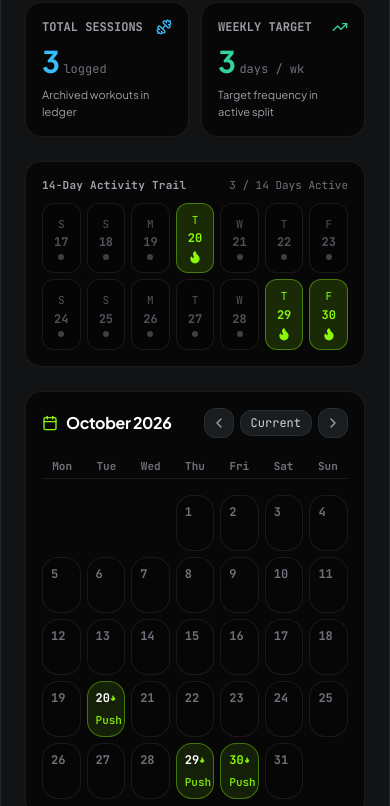
Test: GymConsistencyStreakCalendar › navigates between months and back to the current month
(page scrolled)
Click the button titled "Previous Month".
click(219, 423)  # box [204,408,234,438]
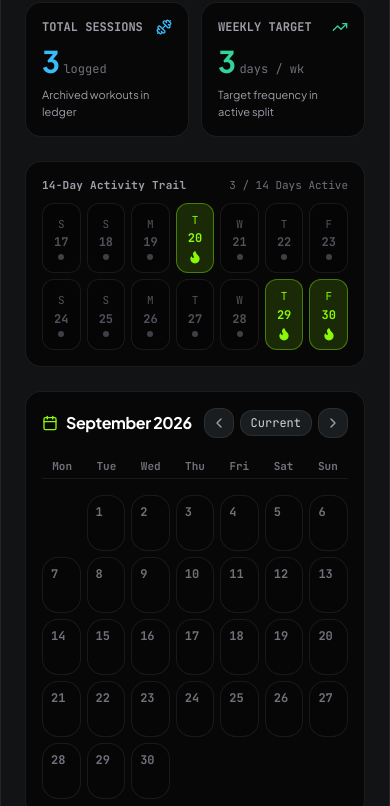
Expected: the text "September 2026" is shown, [66,411,192,435]
Click the button titled "Next Month".
click(333, 423)  # box [318,408,348,438]
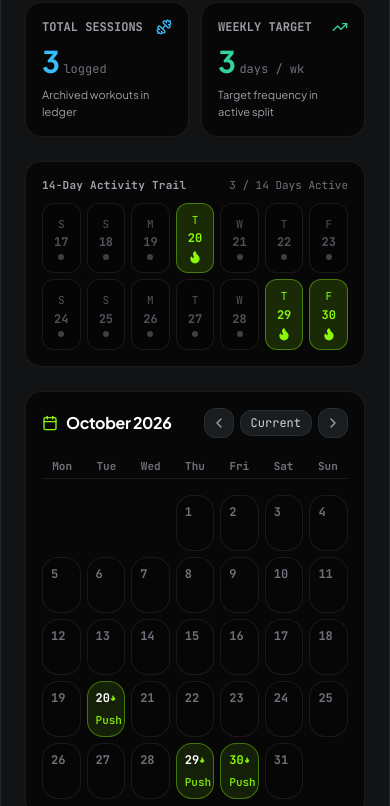
Click the button titled "Next Month".
click(333, 423)  # box [318,408,348,438]
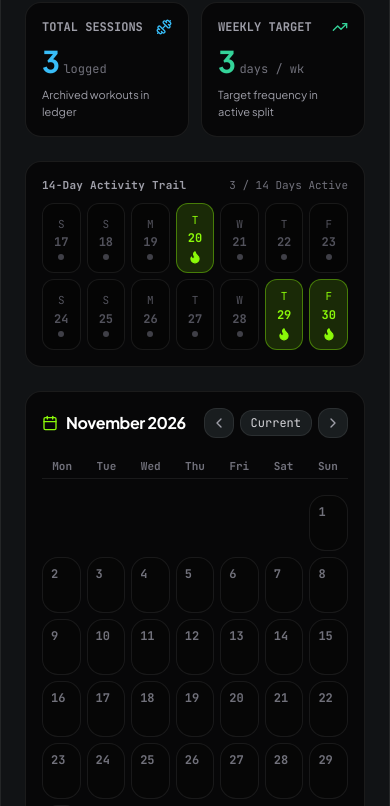
Expected: the text "November 2026" is shown, [66,411,186,435]
Click the button "Current".
click(276, 423)  # box [240,410,312,436]
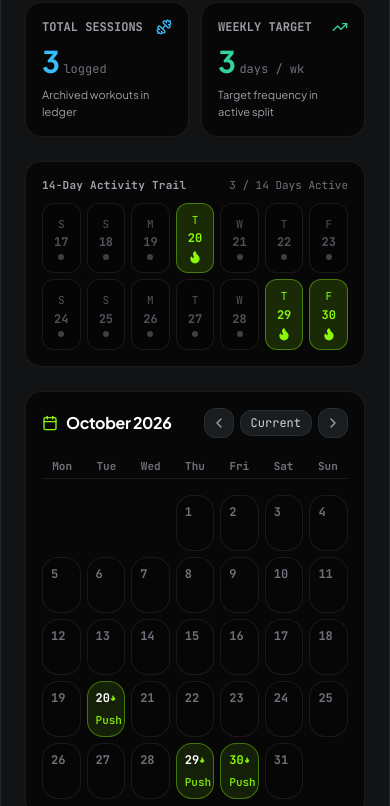
Expected: the text "October 2026" is shown, [66,411,171,435]
